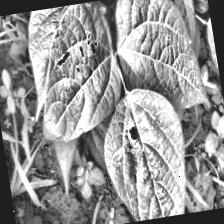ALS: (23, 0, 134, 167), (103, 82, 193, 224)
